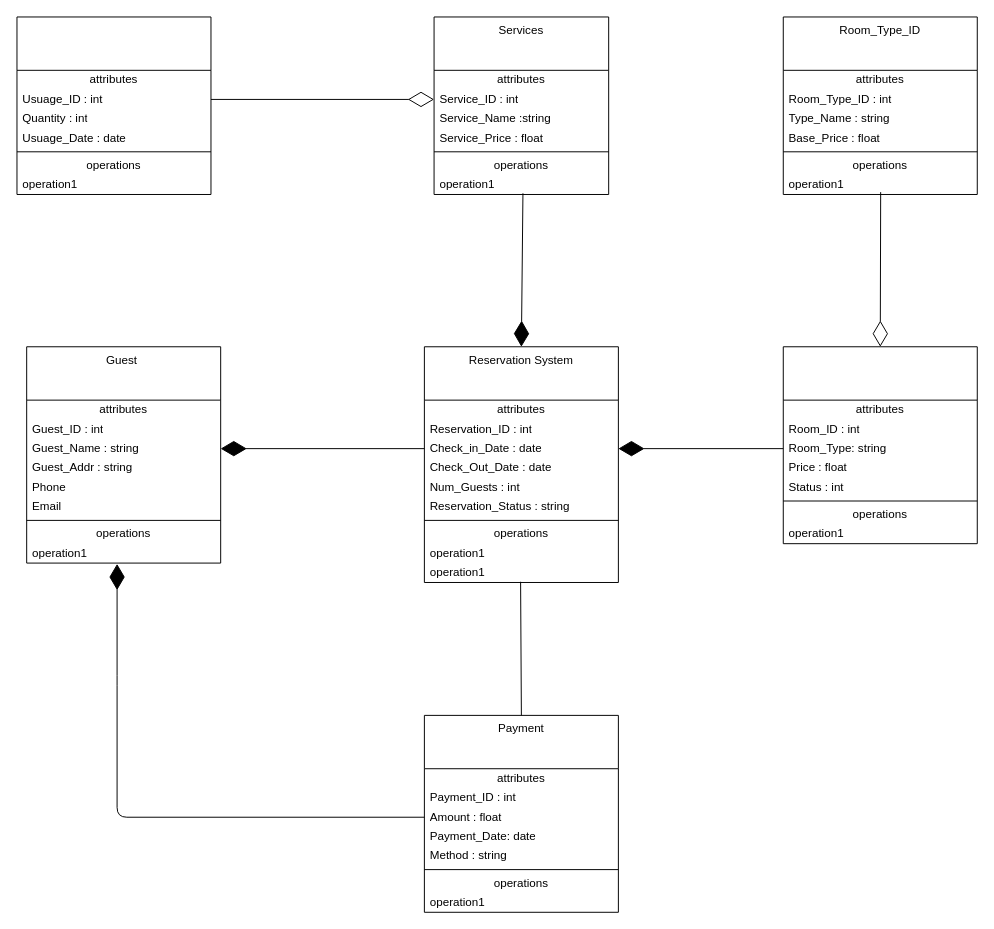
The diagram is 994 pixels wide and 929 high, and some of its shapes have lost their labels. Each missing label, with the box of its shape:
Room Management: (782, 346, 977, 544)
Service Usuage: (16, 16, 211, 194)
